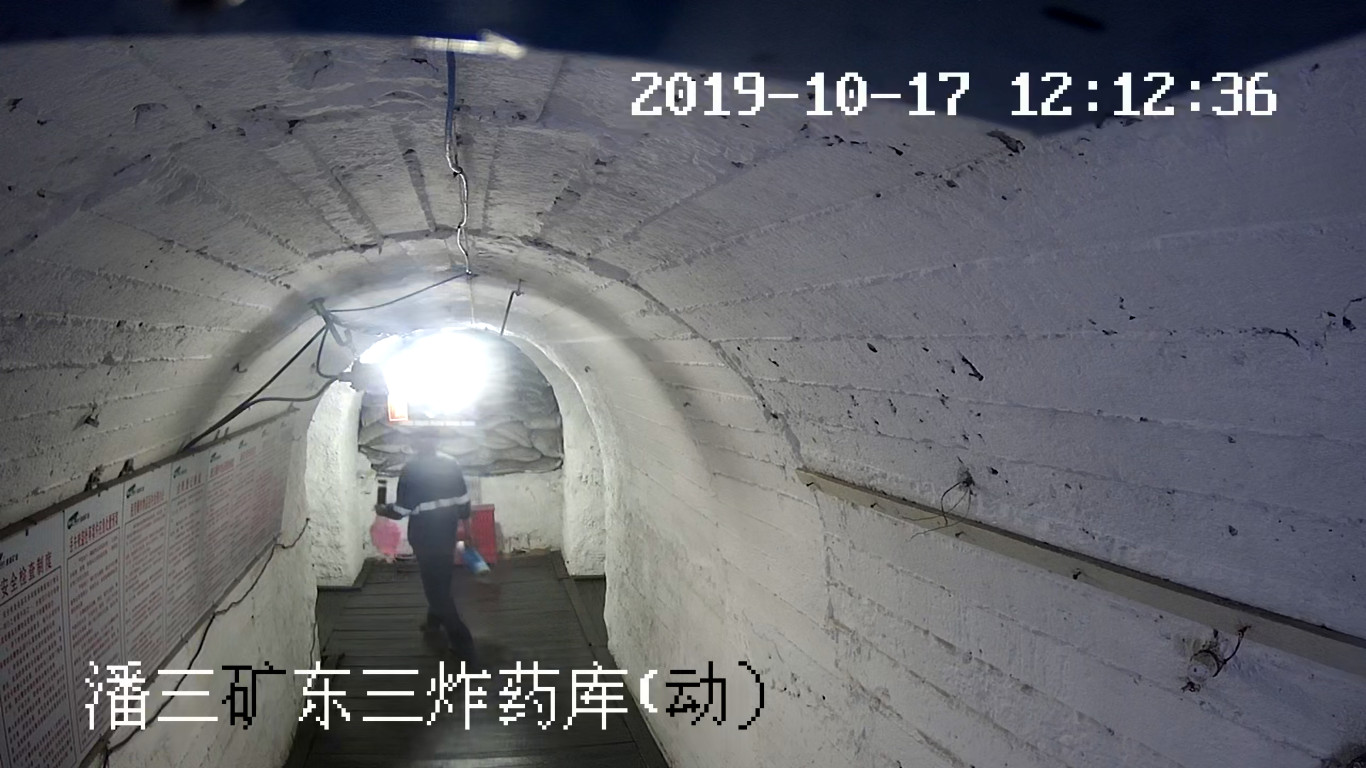helmet: (407, 411, 440, 433)
